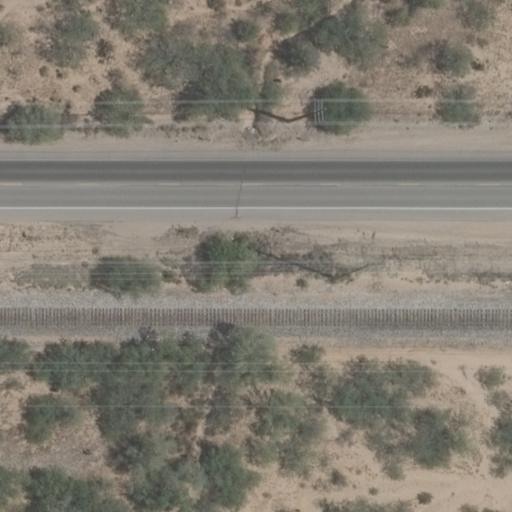DT: (280, 100, 328, 123), (326, 261, 371, 281)
